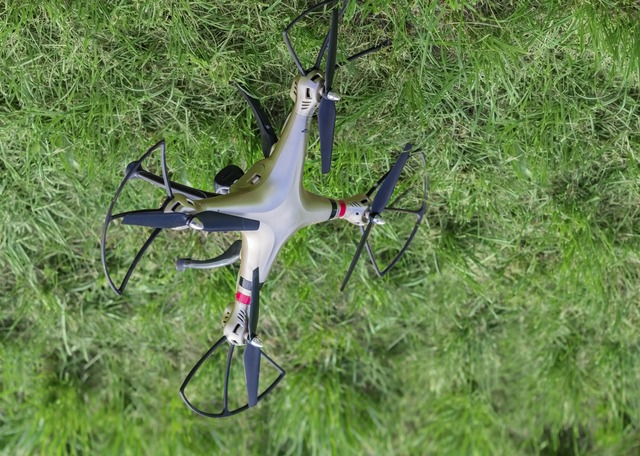drone: (100, 0, 429, 419)
